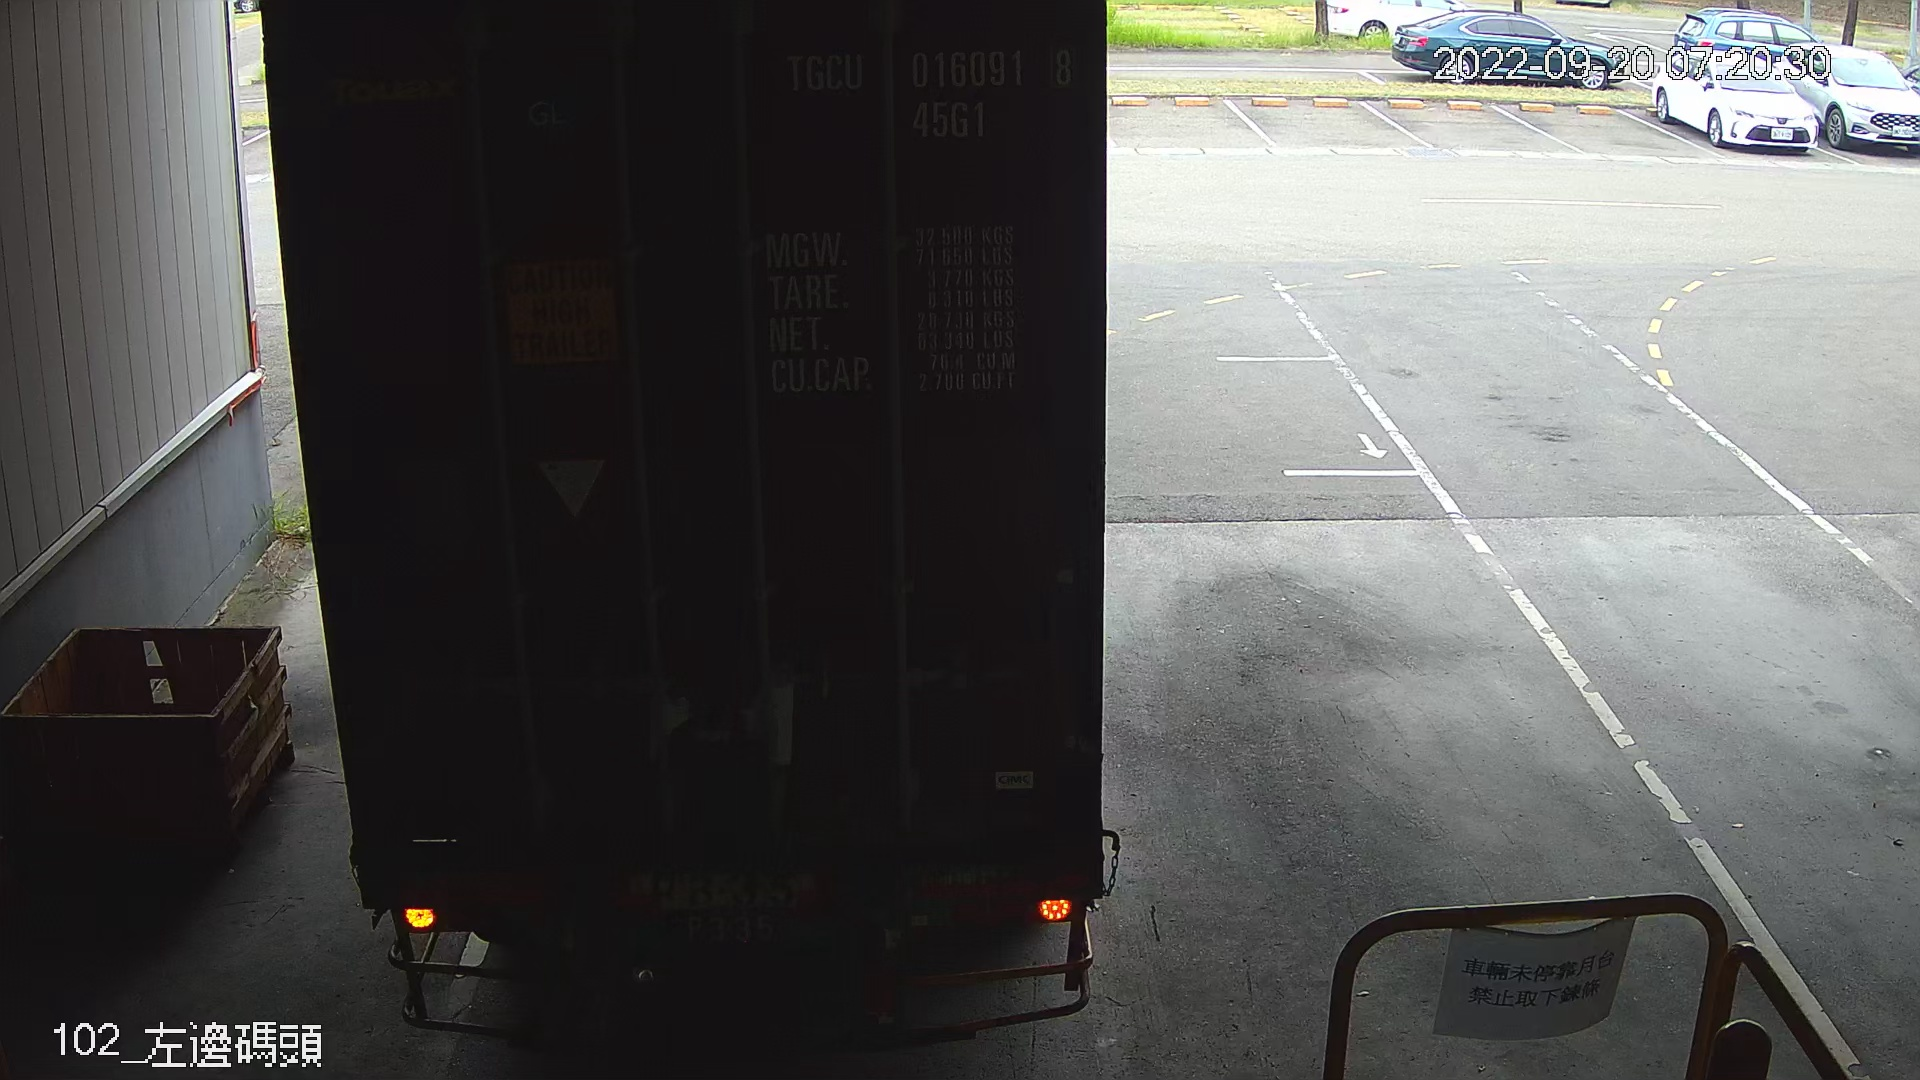container: (775, 40, 1085, 145)
